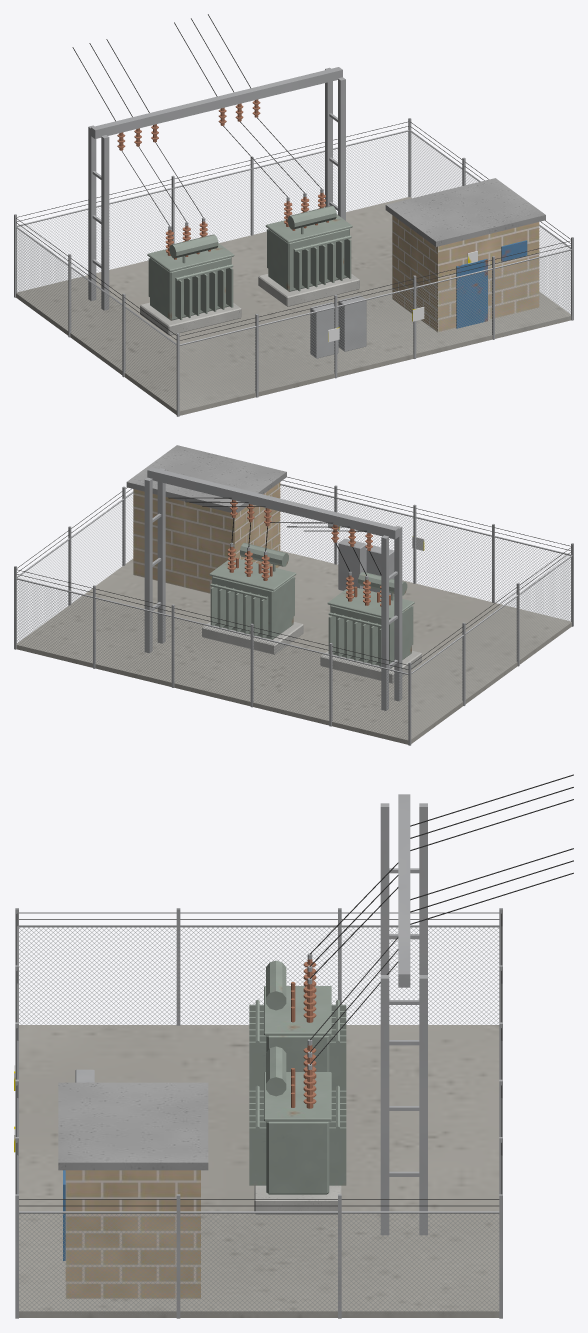
File: substation.glb
The picture shows the model from 3 angles, top to bottom: view 1: azimuth 30°, elevation 25°; view 2: azimuth 150°, elevation 25°; view 3: azimuth 270°, elevation 25°; orthographic projection. The views are drawn at different scales.
Visible parts, largest first — view 1: substation, substation_fence; view 2: substation, substation_fence; view 3: substation, substation_fence.
Part boxes in pixels (x1=…): substation: x1=14, y1=14, x2=573, y2=416; substation_fence: x1=16, y1=131, x2=570, y2=410; substation: x1=14, y1=445, x2=573, y2=745; substation_fence: x1=16, y1=485, x2=571, y2=741; substation: x1=14, y1=774, x2=573, y2=1318; substation_fence: x1=19, y1=927, x2=499, y2=1315.
Size of the model in its own units: 14.07 by 7.21 by 11.57.
Materials: 2 (2 with a texture image).
